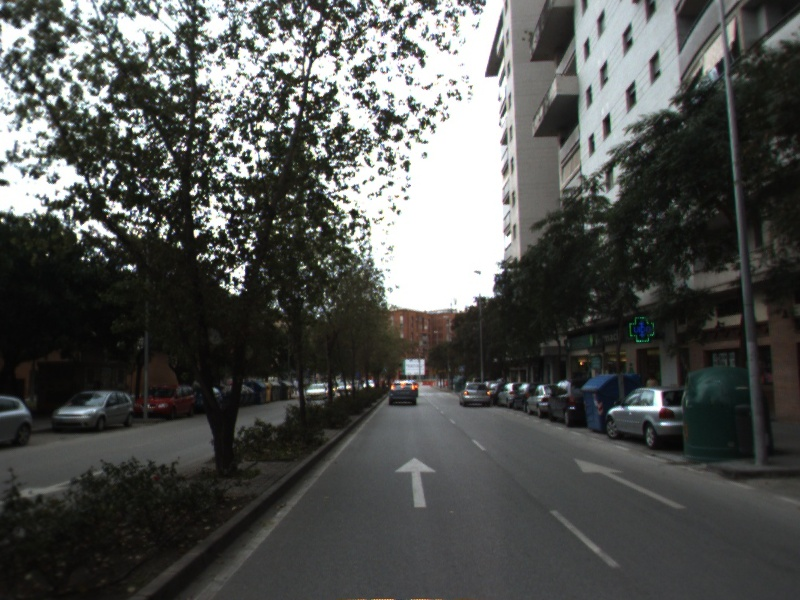STRAIGHT: (571, 455, 689, 511), (393, 455, 439, 510)
